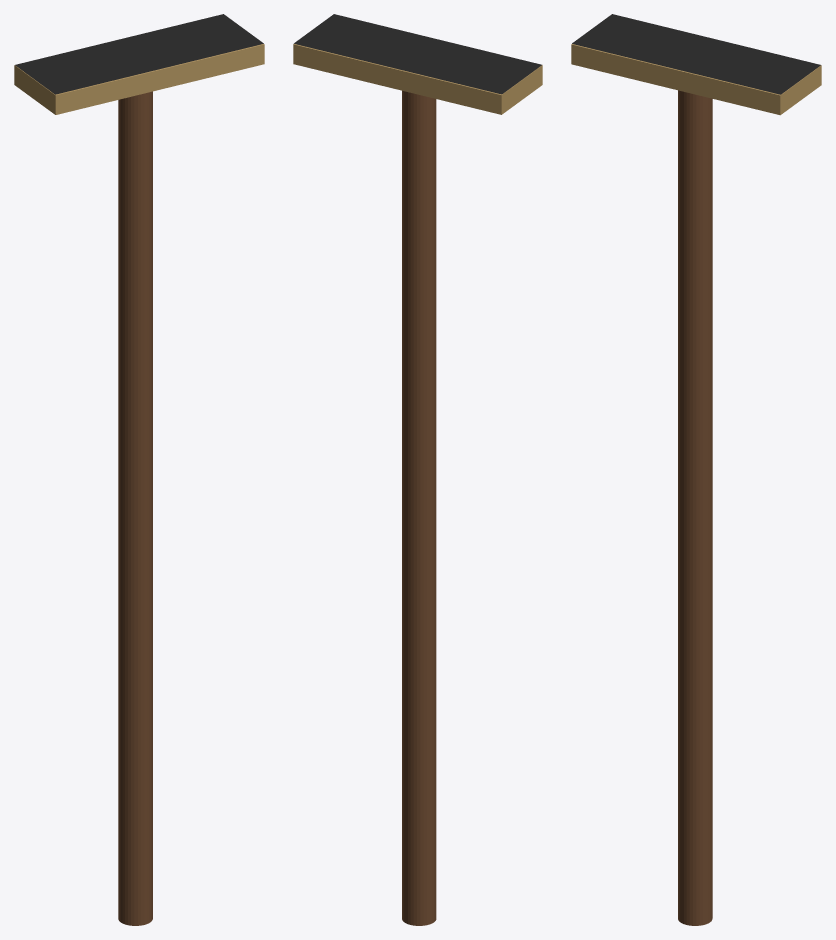
File: broom.fbx
3 views of the same model, side by side, from view 1: azimuth 30°, elevation 25°; view 2: azimuth 150°, elevation 25°; view 3: azimuth 330°, elevation 25° (orthographic).
Parts seen in each view (by area): view 1: vassoura, Plane.001, Plane; view 2: vassoura, Plane.001, Plane; view 3: vassoura, Plane.001, Plane.
Boxes of the visible parts, <box> form: vassoura: <box>118,91,152,925</box>; Plane.001: <box>15,14,263,94</box>; Plane: <box>14,44,264,114</box>; vassoura: <box>402,90,436,925</box>; Plane.001: <box>294,14,541,94</box>; Plane: <box>293,44,542,114</box>; vassoura: <box>678,90,712,925</box>; Plane.001: <box>572,14,820,94</box>; Plane: <box>571,44,821,115</box>.
Size of the model in its own units: 180 by 711 by 61.41.
